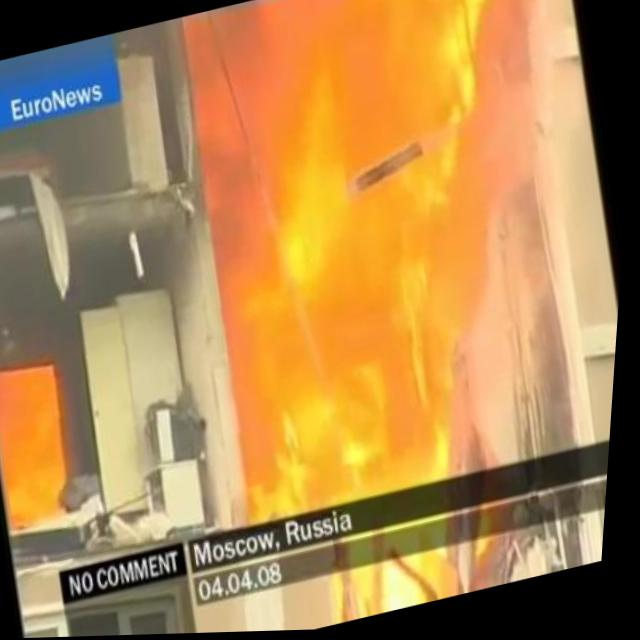fire: (147, 0, 634, 531), (0, 355, 85, 536)
